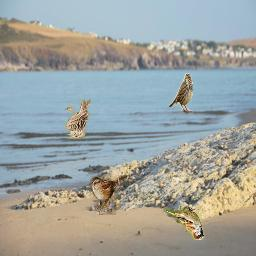Sparrow: (90, 175, 127, 215), (165, 207, 205, 240), (65, 99, 91, 139), (168, 73, 193, 113)
